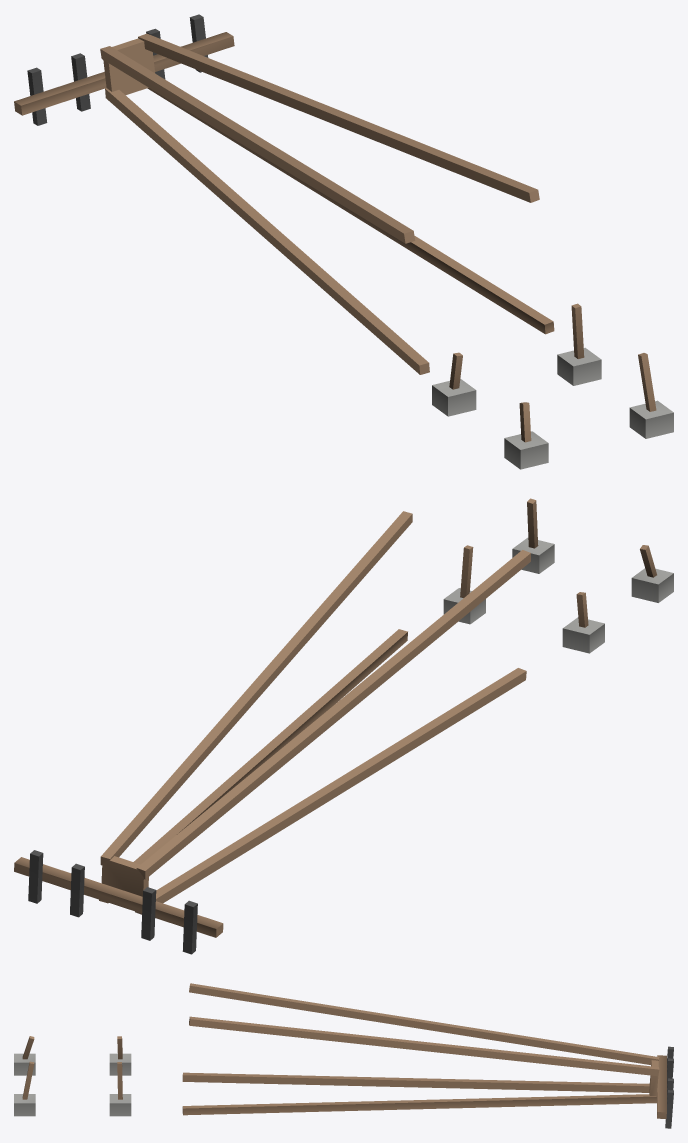
Rendered from ropeway_pylon_down_lod2.glb.
The picture shows the model from 3 angles, top to bottom: view 1: azimuth 30°, elevation 25°; view 2: azimuth 150°, elevation 25°; view 3: azimuth 270°, elevation 25°; orthographic projection. The views are drawn at different scales.
Visible parts, largest first — view 1: static; view 2: static; view 3: static.
Boxes of the visible parts, box(x1,y1,x2,y2) form: static: box(14, 14, 673, 469); static: box(14, 498, 673, 954); static: box(14, 983, 673, 1128).
Bounding box in the file's own units: 6.8 × 5.04 × 27.58.
